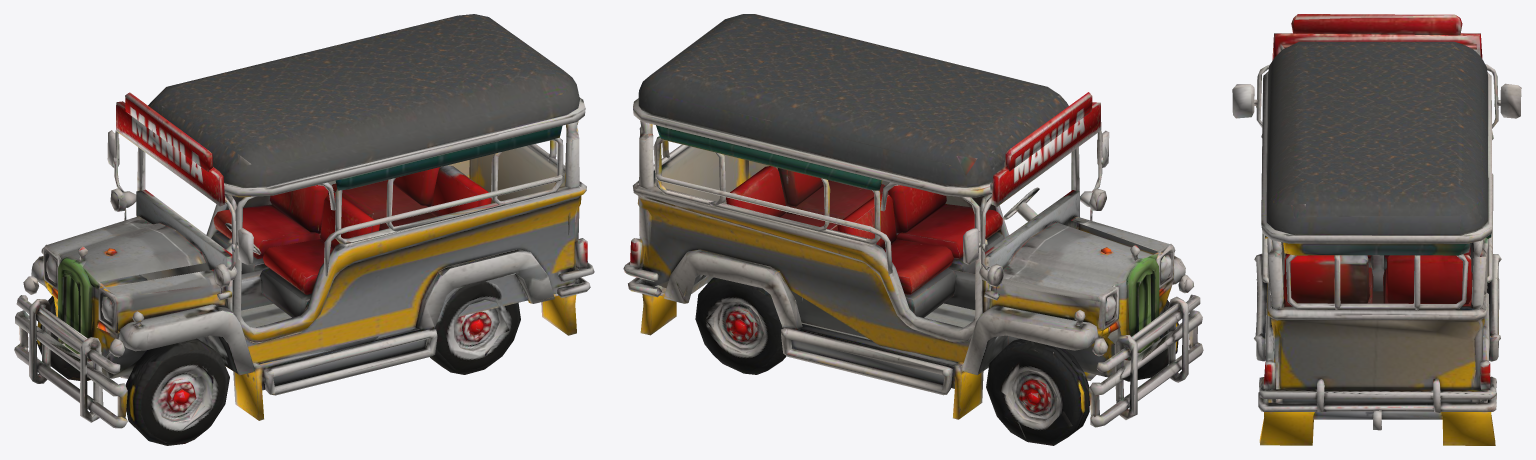
Rendered from jeep.glb.
The picture shows the model from 3 angles, left to right: view 1: azimuth 30°, elevation 25°; view 2: azimuth 150°, elevation 25°; view 3: azimuth 270°, elevation 25°; orthographic projection.
Visible parts, largest first — view 1: Mesh0; view 2: Mesh0; view 3: Mesh0.
Boxes of the visible parts, x1,y1,x2,y2 form: Mesh0: (14,14,594,445); Mesh0: (623,14,1203,445); Mesh0: (1232,14,1521,445).
Size of the model in its own units: 1 by 0.5557 by 0.5128.
1 material, 1 textured.
